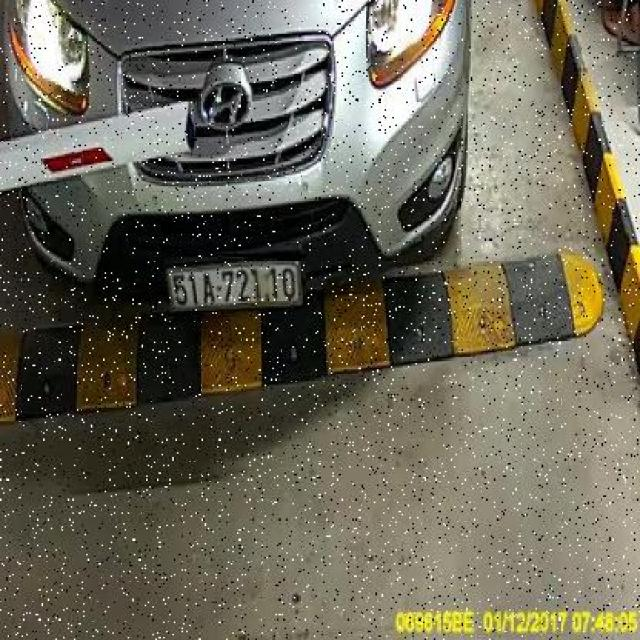number_plate: (156, 254, 306, 311)
